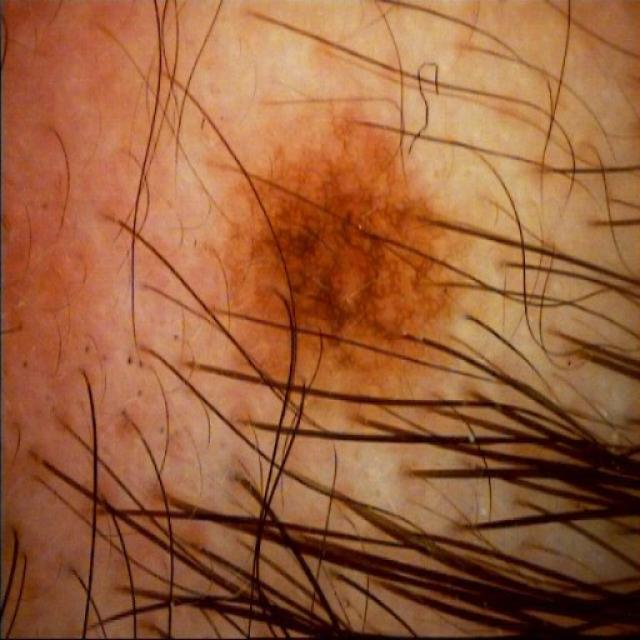Melanoma: (231, 118, 448, 336)
